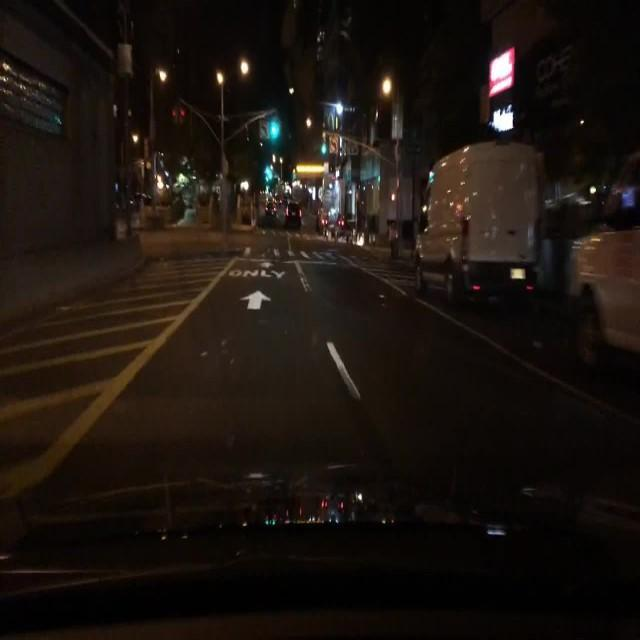normal: (420, 138, 551, 303)
